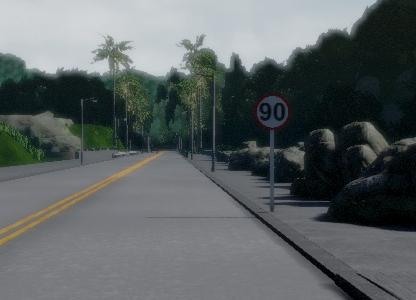Speed_90: (253, 91, 293, 134)
